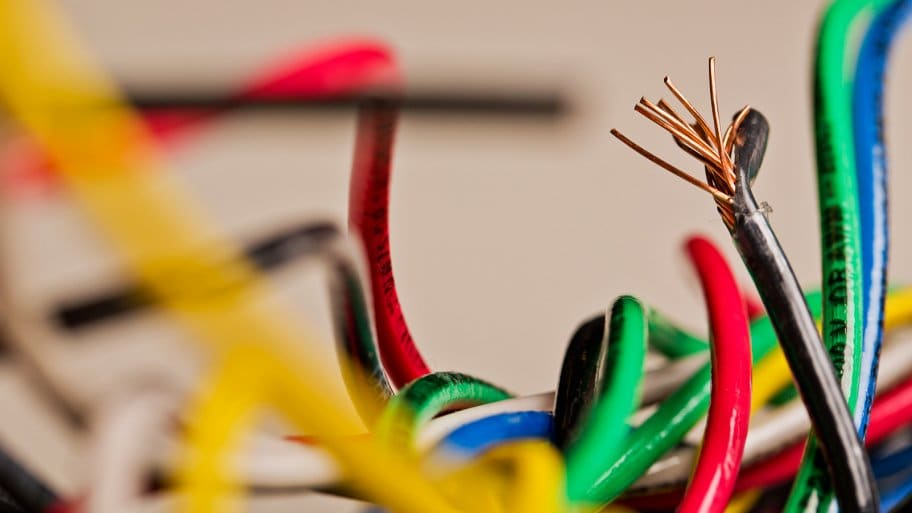Nonrec_Tangler: (55, 27, 902, 506), (612, 50, 887, 493)
